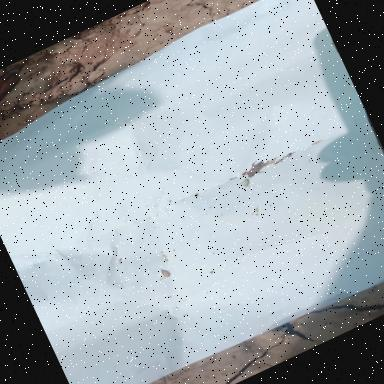pbw: (160, 265, 174, 279), (264, 157, 278, 166), (310, 138, 324, 146), (264, 160, 276, 167)
